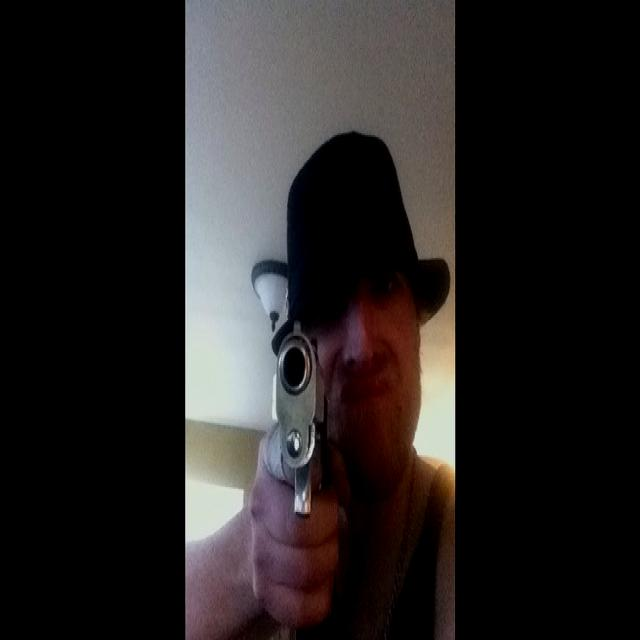pistol: (275, 316, 333, 524)
